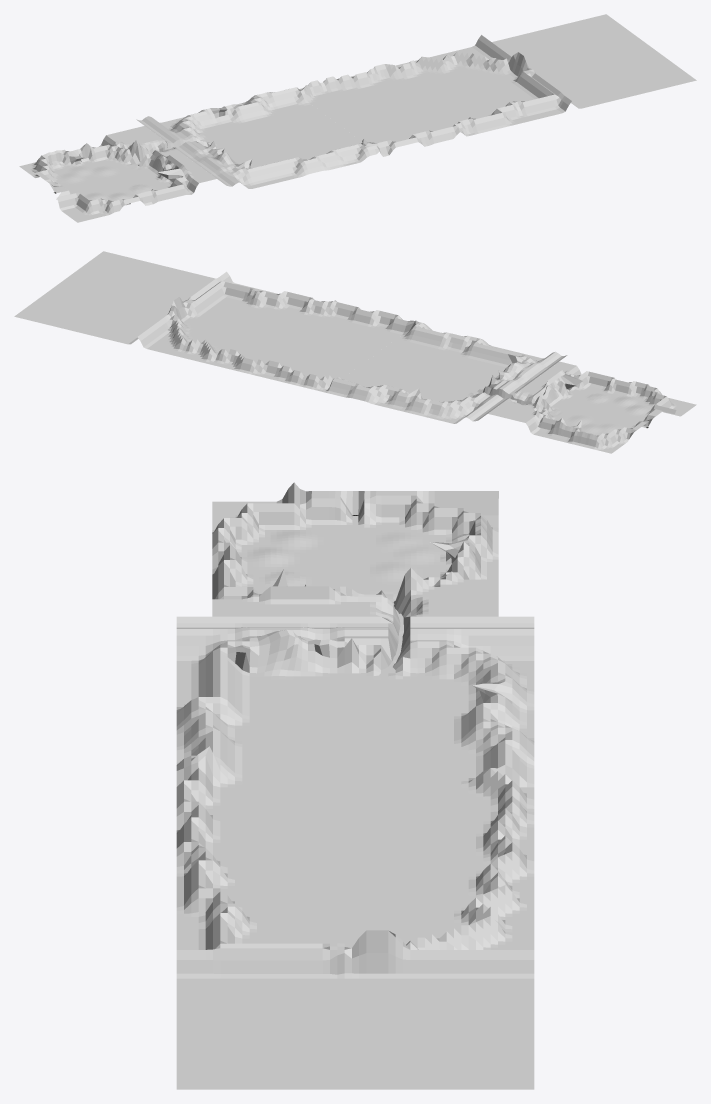
Rendered from phoenix.glb.
The picture shows the model from 3 angles, top to bottom: view 1: azimuth 30°, elevation 25°; view 2: azimuth 150°, elevation 25°; view 3: azimuth 270°, elevation 25°; orthographic projection. The views are drawn at different scales.
Visible parts, largest first — view 1: Grid; view 2: Grid; view 3: Grid.
Part boxes in pixels (x1=…): Grid: x1=19, y1=14, x2=696, y2=222; Grid: x1=14, y1=251, x2=696, y2=453; Grid: x1=176, y1=482, x2=534, y2=1089.
Bounding box in the file's own units: 3889 × 123 × 1000.
1 material, 1 textured.
